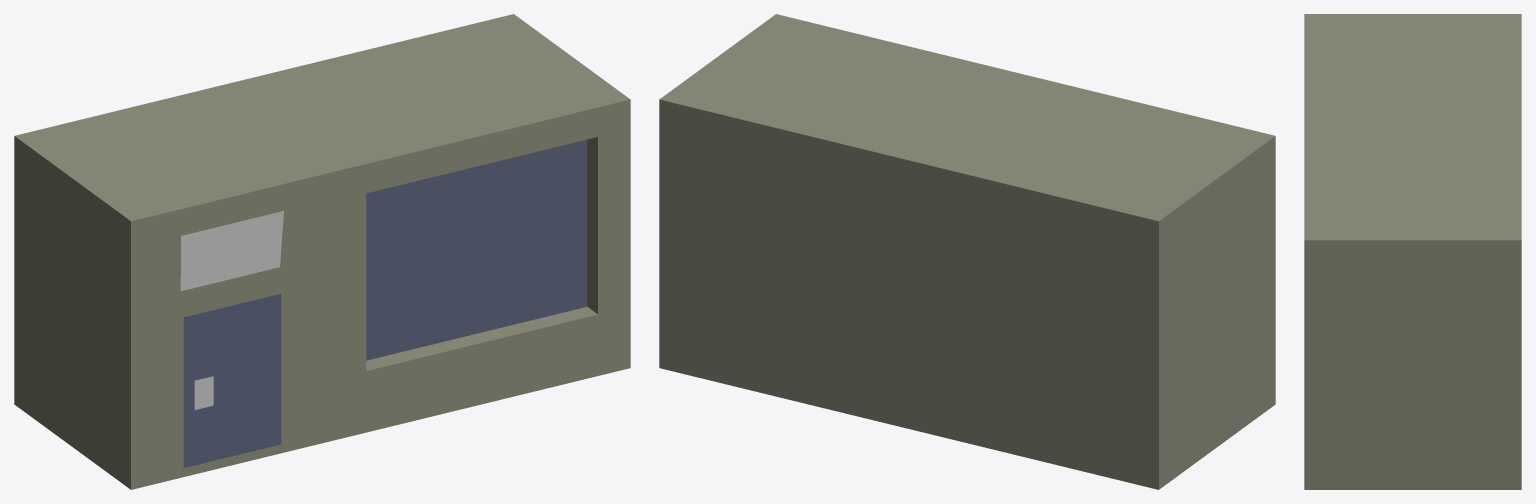
The model's file is PhoneShop.fbx.
3 renders of one model, left to right at view 1: azimuth 30°, elevation 25°; view 2: azimuth 150°, elevation 25°; view 3: azimuth 270°, elevation 25°, orthographic. The views are drawn at different scales.
Visible parts, largest first — view 1: Cube; view 2: Cube; view 3: Cube.
Part boxes in pixels (x1=…): Cube: x1=14, y1=14, x2=630, y2=489; Cube: x1=659, y1=14, x2=1275, y2=489; Cube: x1=1304, y1=14, x2=1521, y2=489.
Size of the model in its own units: 719 by 370 by 291.
